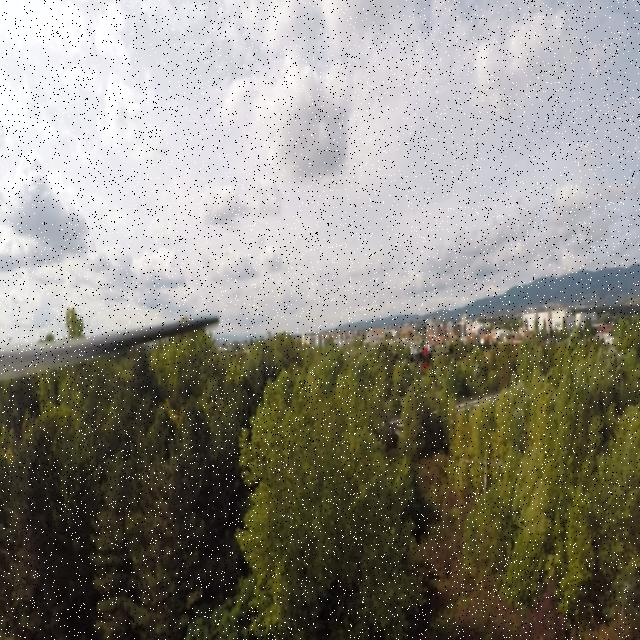UAV: (392, 333, 460, 398)
